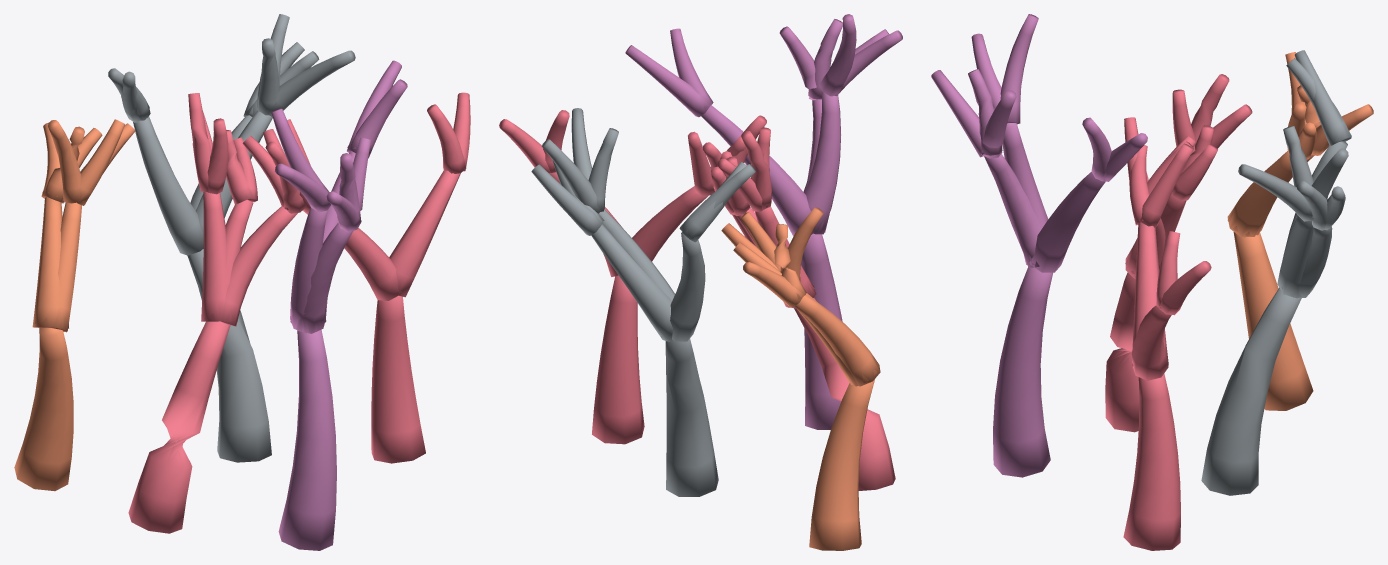
File: SM_Beach_10_CoralCluster.fbx
The picture shows the model from 3 angles, left to right: view 1: azimuth 30°, elevation 25°; view 2: azimuth 150°, elevation 25°; view 3: azimuth 270°, elevation 25°; orthographic projection. The views are drawn at different scales.
Visible parts, largest first — view 1: SM_Beach_10_CoralCluster; view 2: SM_Beach_10_CoralCluster; view 3: SM_Beach_10_CoralCluster.
Boxes of the visible parts, <box> form: SM_Beach_10_CoralCluster: <box>14,14,470,550</box>; SM_Beach_10_CoralCluster: <box>499,14,902,550</box>; SM_Beach_10_CoralCluster: <box>931,14,1373,550</box>.
Size of the model in its own units: 98.96 by 100 by 90.7.
